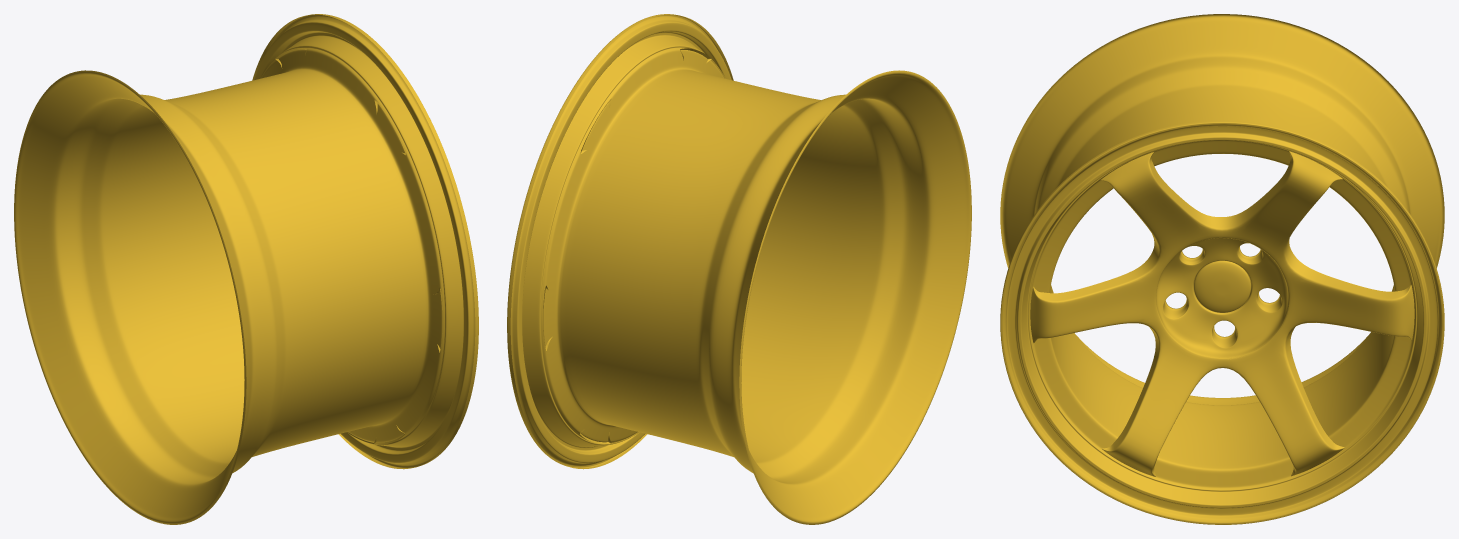
File: Volk.gltf
The picture shows the model from 3 angles, left to right: view 1: azimuth 30°, elevation 25°; view 2: azimuth 150°, elevation 25°; view 3: azimuth 270°, elevation 25°; orthographic projection. The views are drawn at different scales.
Visible parts, largest first — view 1: Plane; view 2: Plane; view 3: Plane.
Part boxes in pixels (x1,y1,x2,y2): Plane: (14, 14, 478, 524); Plane: (507, 14, 971, 524); Plane: (1000, 14, 1444, 524).
Bounding box in the file's own units: 5.13 × 8.86 × 8.86.
